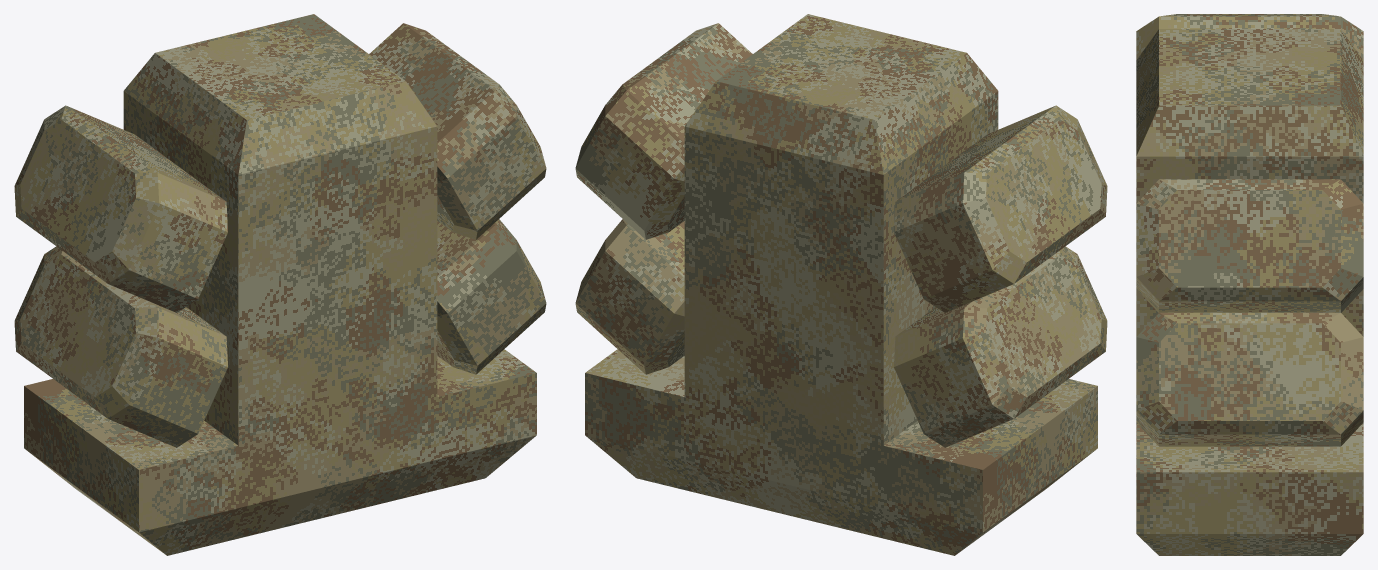
The model's file is pack1.glb.
The picture shows the model from 3 angles, left to right: view 1: azimuth 30°, elevation 25°; view 2: azimuth 150°, elevation 25°; view 3: azimuth 270°, elevation 25°; orthographic projection.
Parts seen in each view (by area): view 1: pack1; view 2: pack1; view 3: pack1.
Part boxes in pixels (<box>): pack1: <box>14,14,546,555</box>; pack1: <box>575,14,1107,555</box>; pack1: <box>1136,14,1363,555</box>.
Size of the model in its own units: 0.6699 by 0.6 by 0.3.
Materials: 1 (1 with a texture image).
